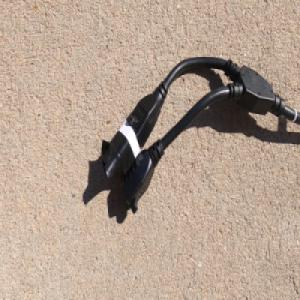Wire: (99, 56, 300, 215)
